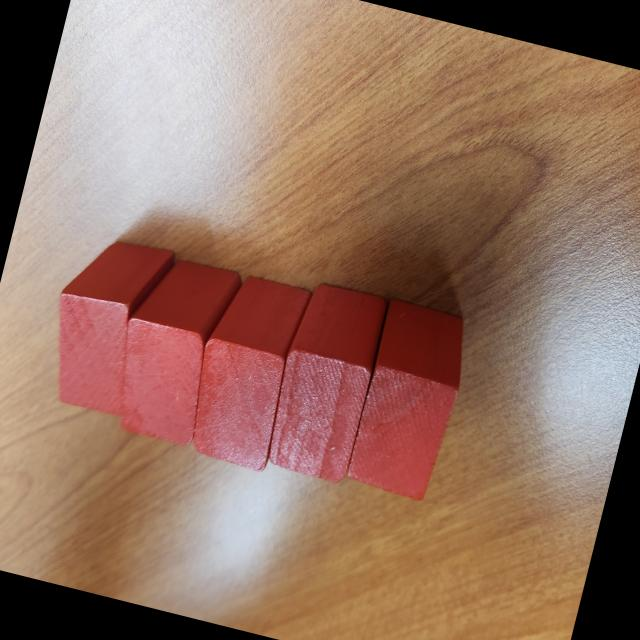red: (101, 249, 245, 451), (34, 226, 178, 422), (177, 267, 314, 473), (342, 296, 476, 506), (259, 276, 391, 485)
